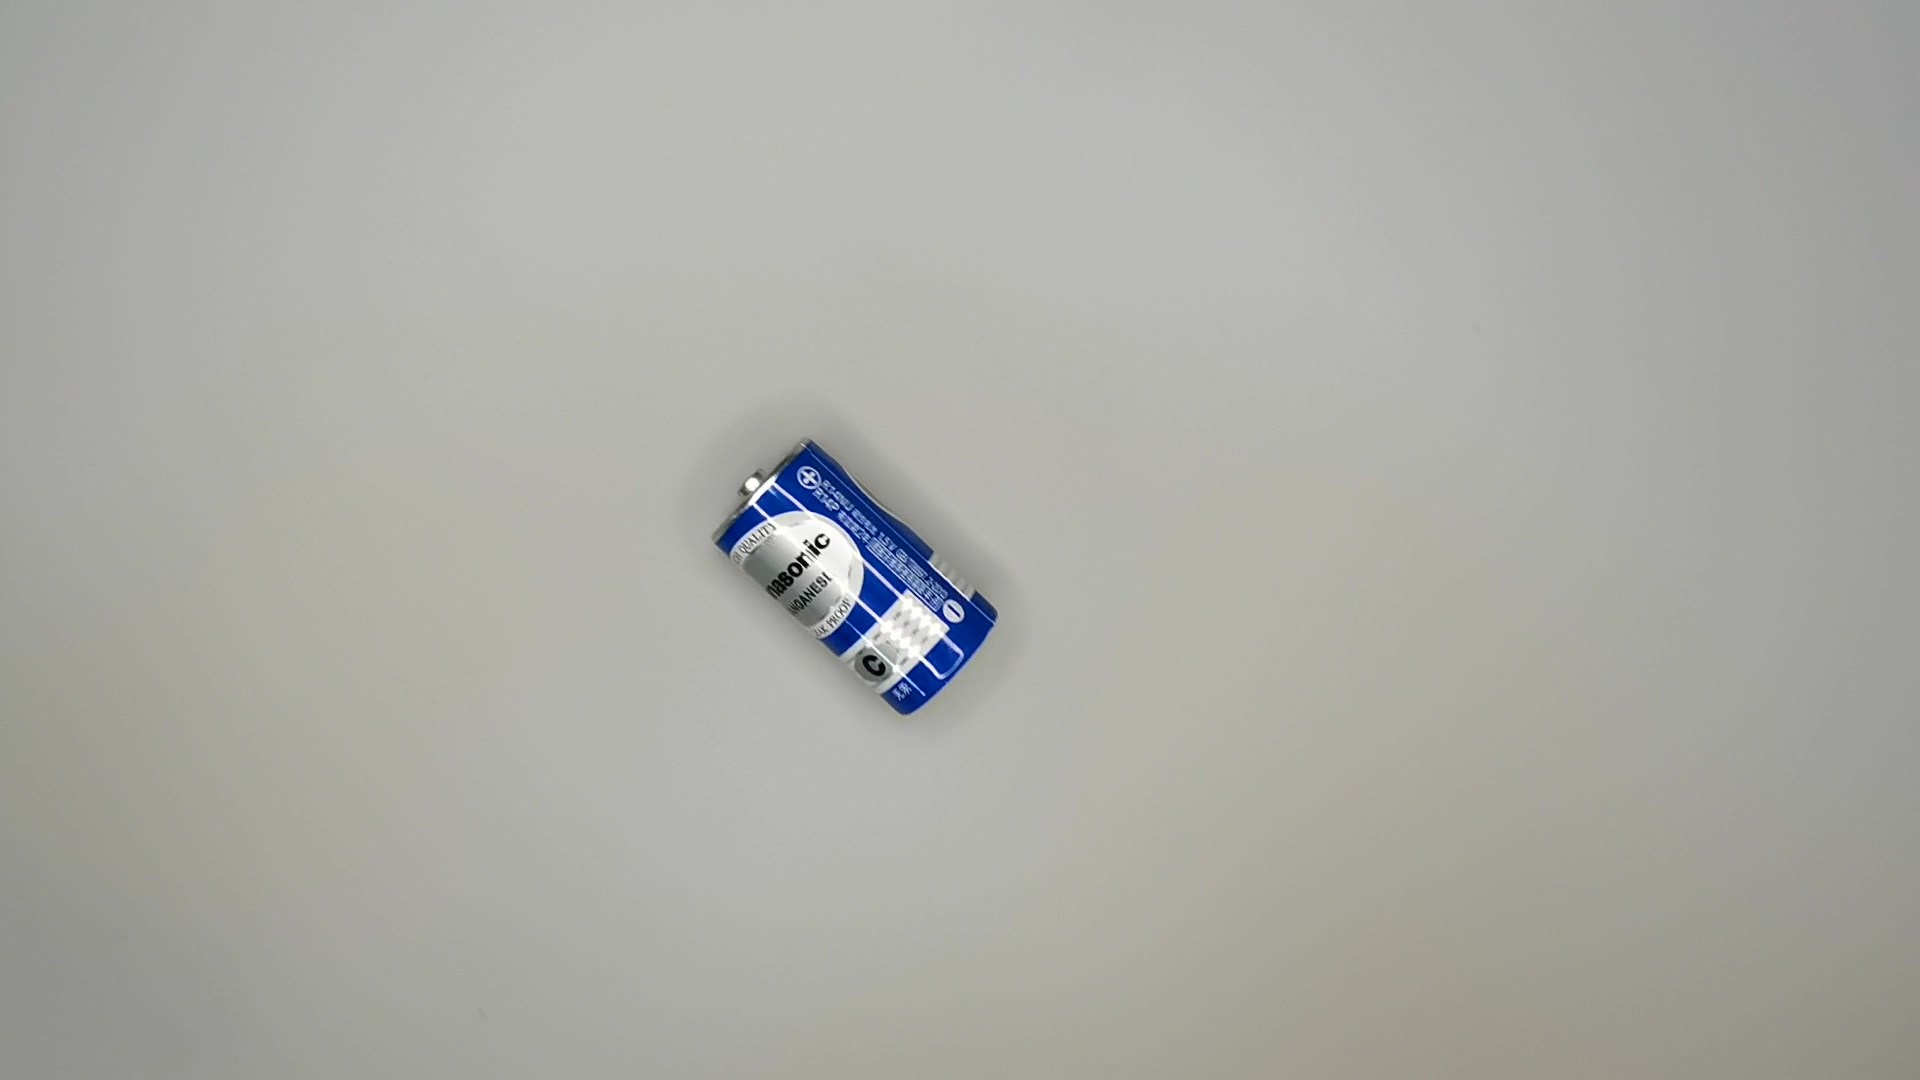battery: (713, 433, 1004, 723)
